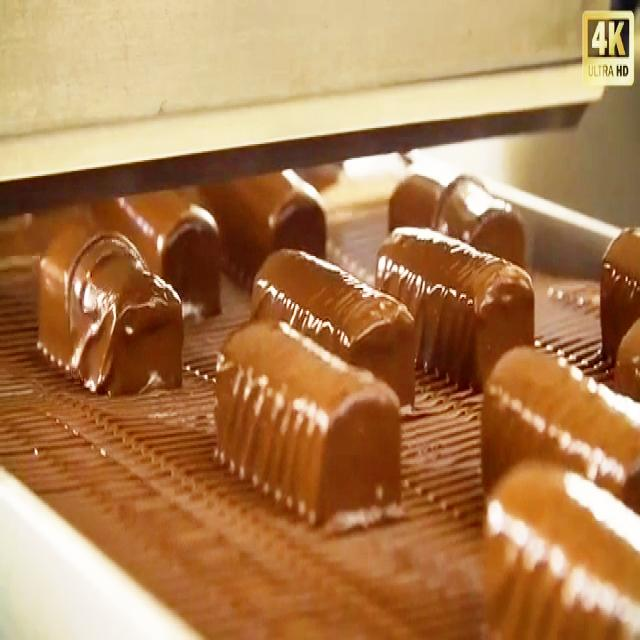Choco: (211, 313, 403, 526), (479, 318, 640, 521), (474, 456, 640, 640), (249, 242, 416, 405), (374, 220, 535, 388), (35, 218, 185, 396), (385, 162, 527, 281), (211, 184, 331, 288), (119, 204, 228, 312), (596, 214, 640, 382)
